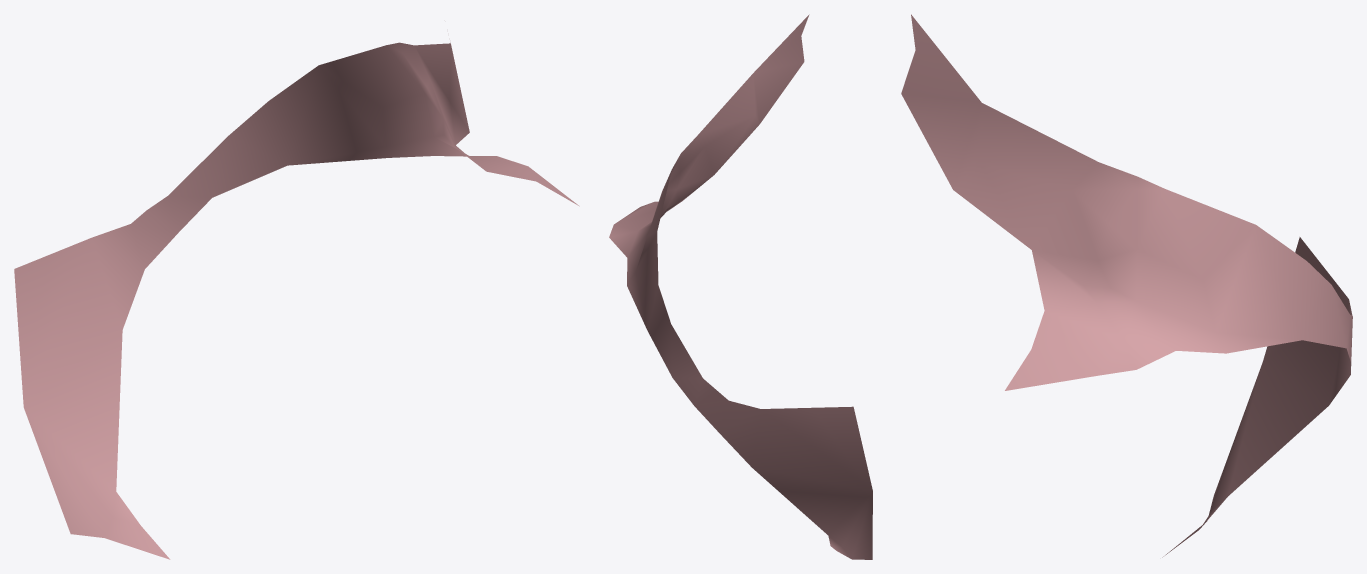
The picture shows the model from 3 angles, left to right: view 1: azimuth 30°, elevation 25°; view 2: azimuth 150°, elevation 25°; view 3: azimuth 270°, elevation 25°; orthographic projection. The views are drawn at different scales.
Visible parts, largest first — view 1: ZA_06a70149dbfbd5df; view 2: ZA_06a70149dbfbd5df; view 3: ZA_06a70149dbfbd5df.
Part boxes in pixels (<box>): ZA_06a70149dbfbd5df: <box>14,42,579,559</box>; ZA_06a70149dbfbd5df: <box>609,14,872,559</box>; ZA_06a70149dbfbd5df: <box>901,14,1352,557</box>.
Size of the model in its own units: 0.0122 by 0.0159 by 0.0104.
